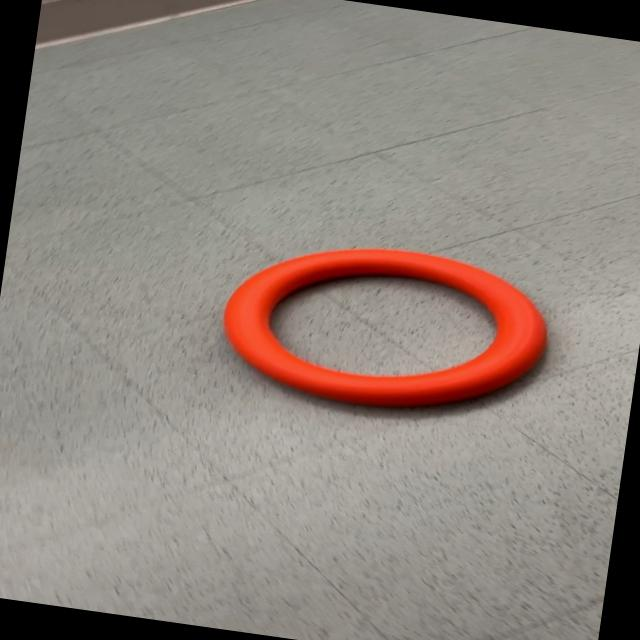note: (212, 224, 559, 430)
